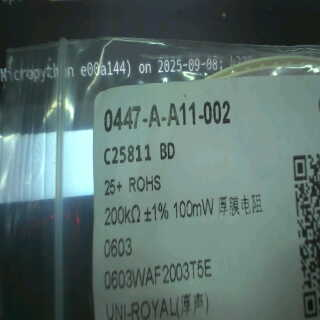200kR: (102, 196, 143, 232)
